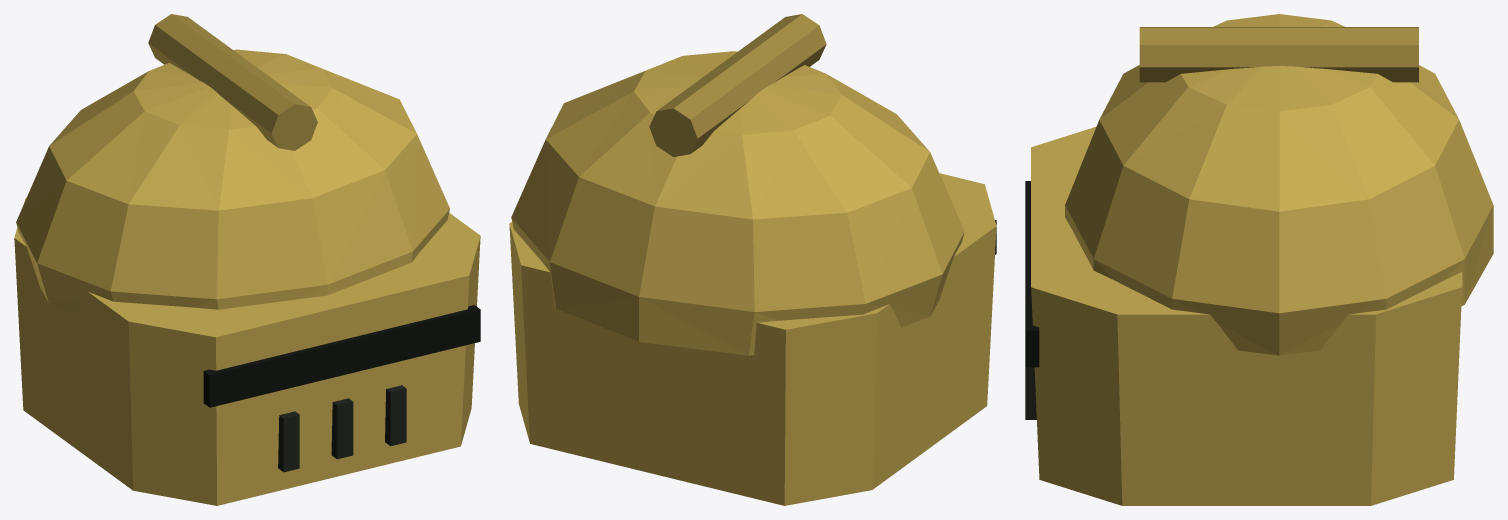
Rendered from ghelm.glb.
3 views of the same model, side by side, from view 1: azimuth 30°, elevation 25°; view 2: azimuth 150°, elevation 25°; view 3: azimuth 270°, elevation 25° (orthographic). The views are drawn at different scales.
Parts seen in each view (by area): view 1: Gold Knight Helm.002; view 2: Gold Knight Helm.002; view 3: Gold Knight Helm.002.
Boxes of the visible parts, bbox=[...] form: Gold Knight Helm.002: bbox=[14, 14, 480, 505]; Gold Knight Helm.002: bbox=[509, 14, 996, 505]; Gold Knight Helm.002: bbox=[1025, 14, 1493, 505].
Bounding box in the file's own units: 0.726 × 0.601 × 0.6633.
